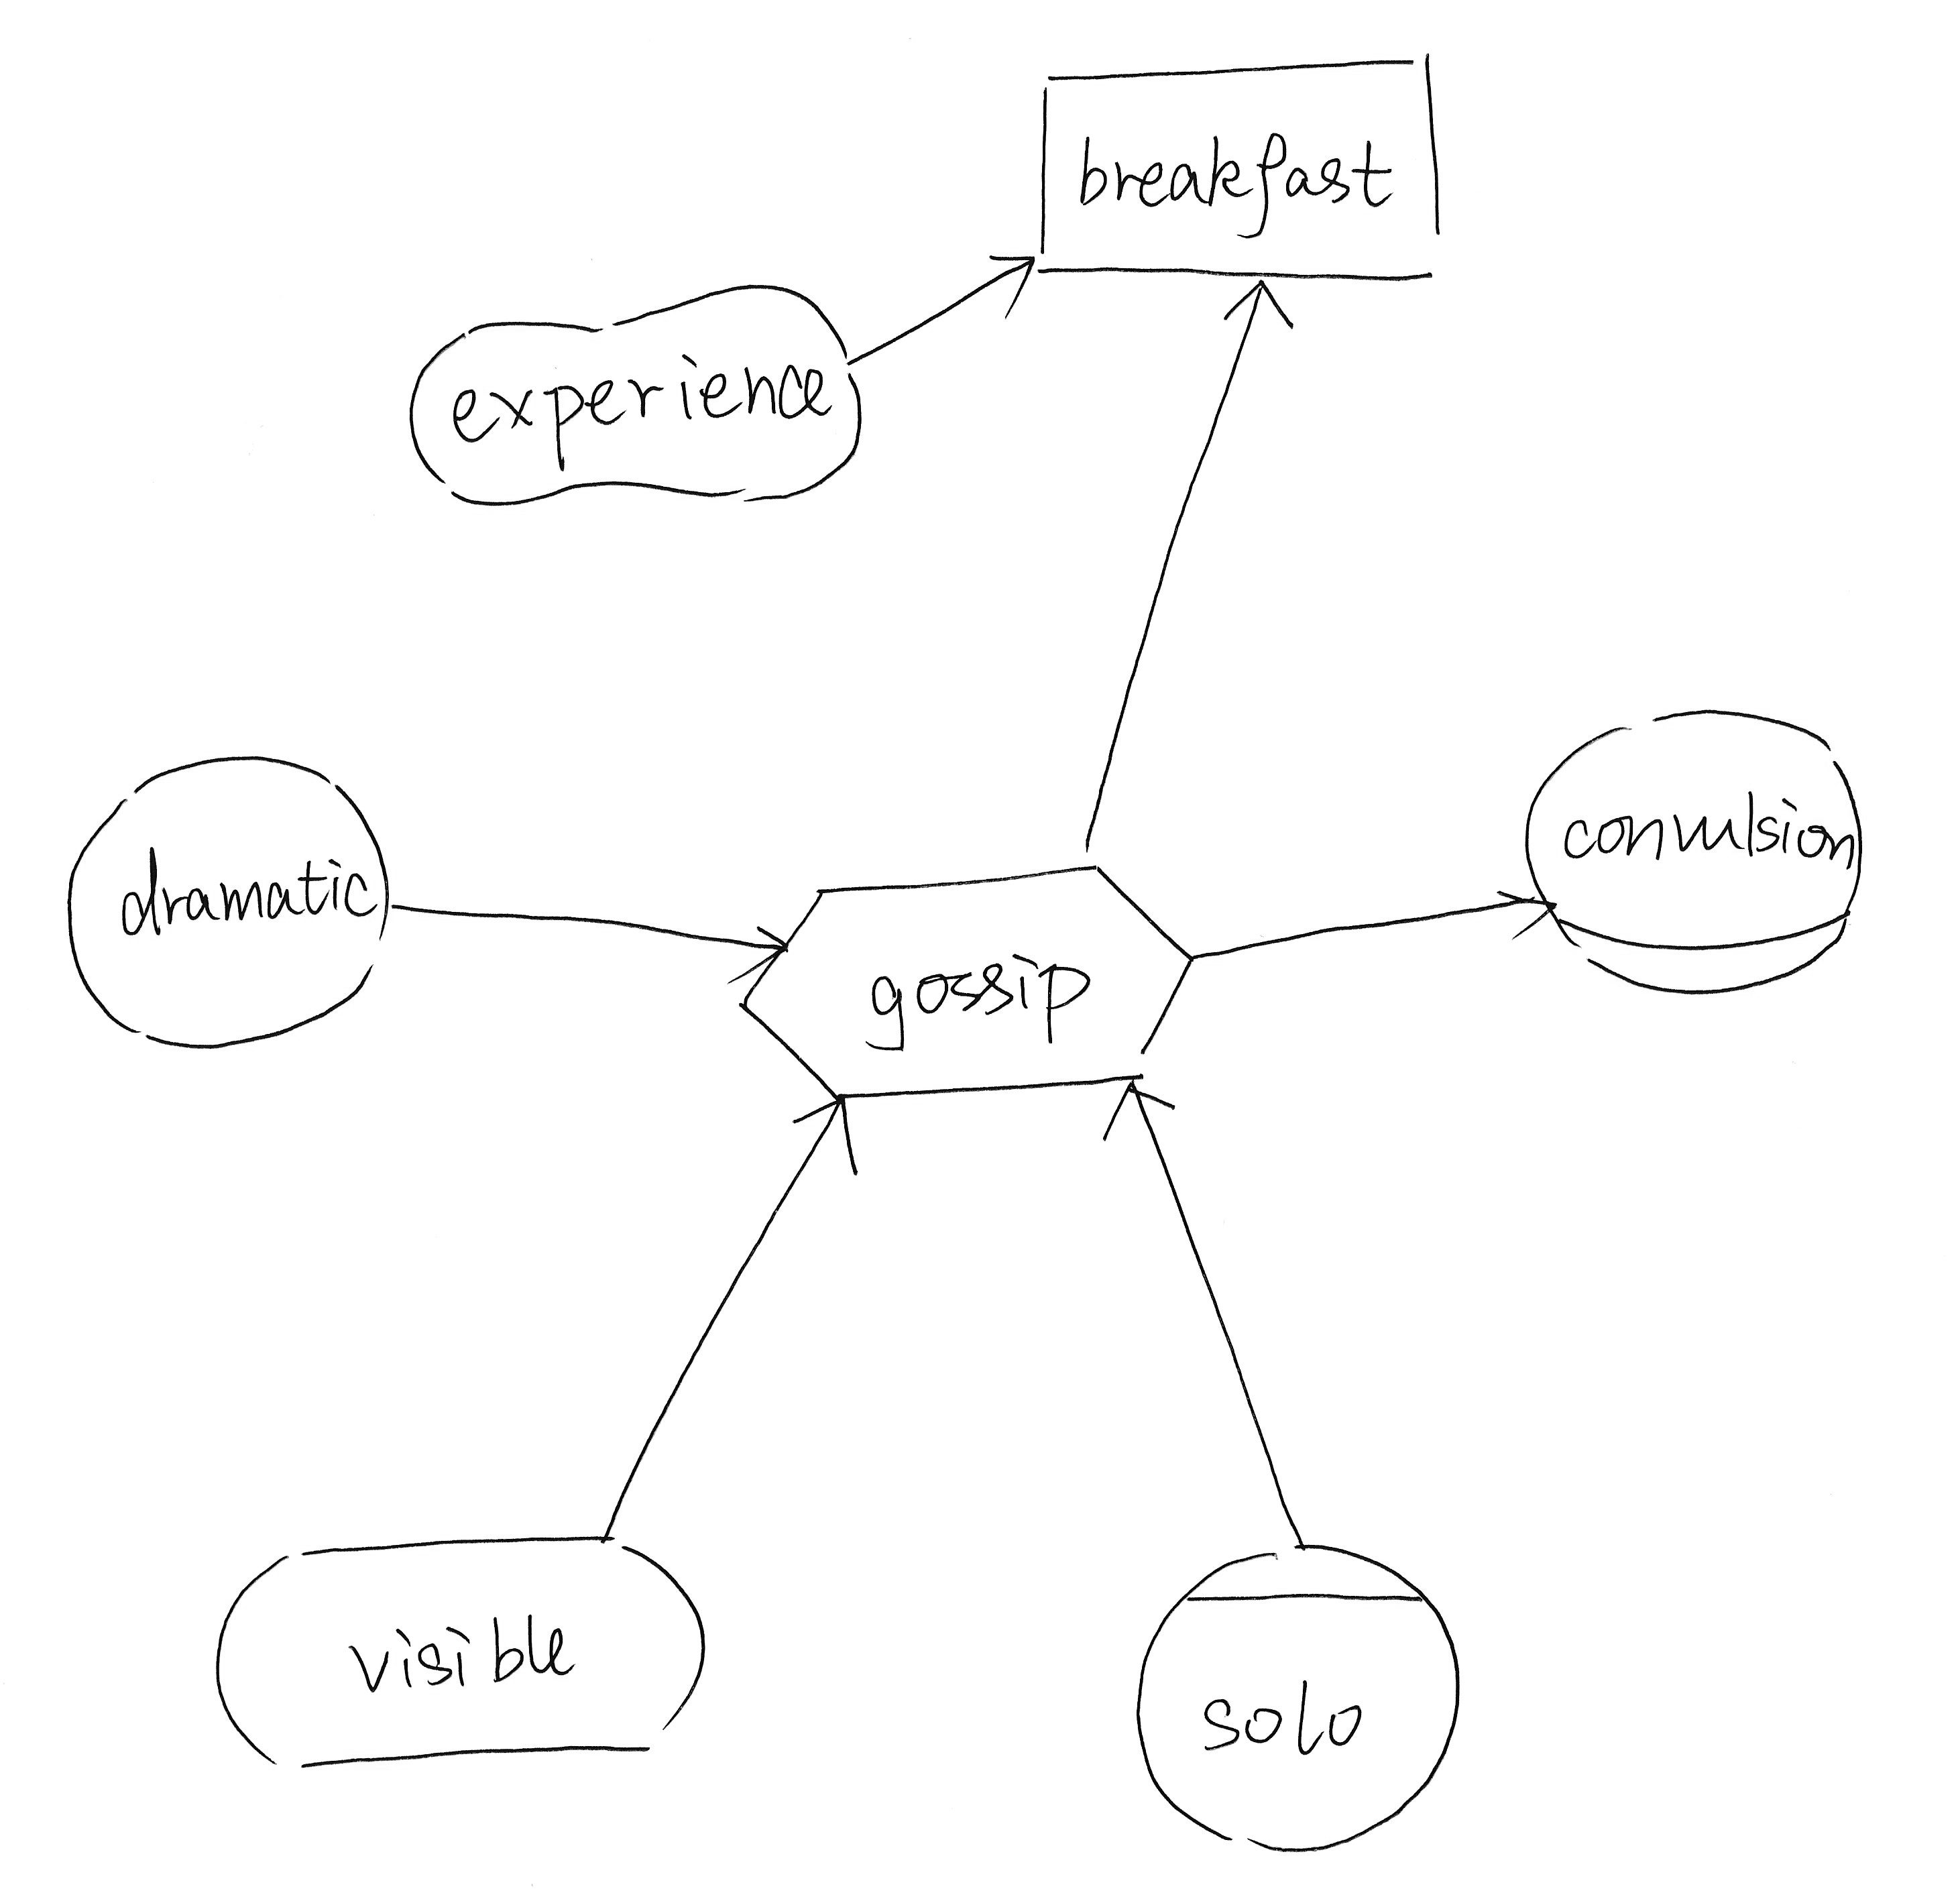actor: (49, 735, 404, 1061)
agent: (1110, 1535, 1487, 1859)
arrow: (779, 1085, 879, 1185), (1087, 1069, 1192, 1153), (1482, 868, 1564, 963), (1209, 273, 1309, 350), (719, 907, 793, 998), (978, 240, 1050, 331)
goal: (199, 1517, 728, 1783)
quality: (387, 259, 880, 520)
resource: (1017, 35, 1461, 319)
role: (1507, 691, 1885, 1008)
task: (721, 849, 1199, 1122)
